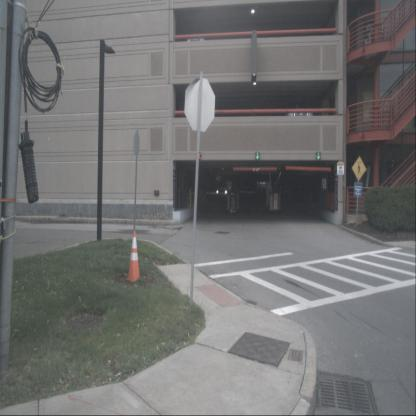cone: (127, 230, 142, 284)
